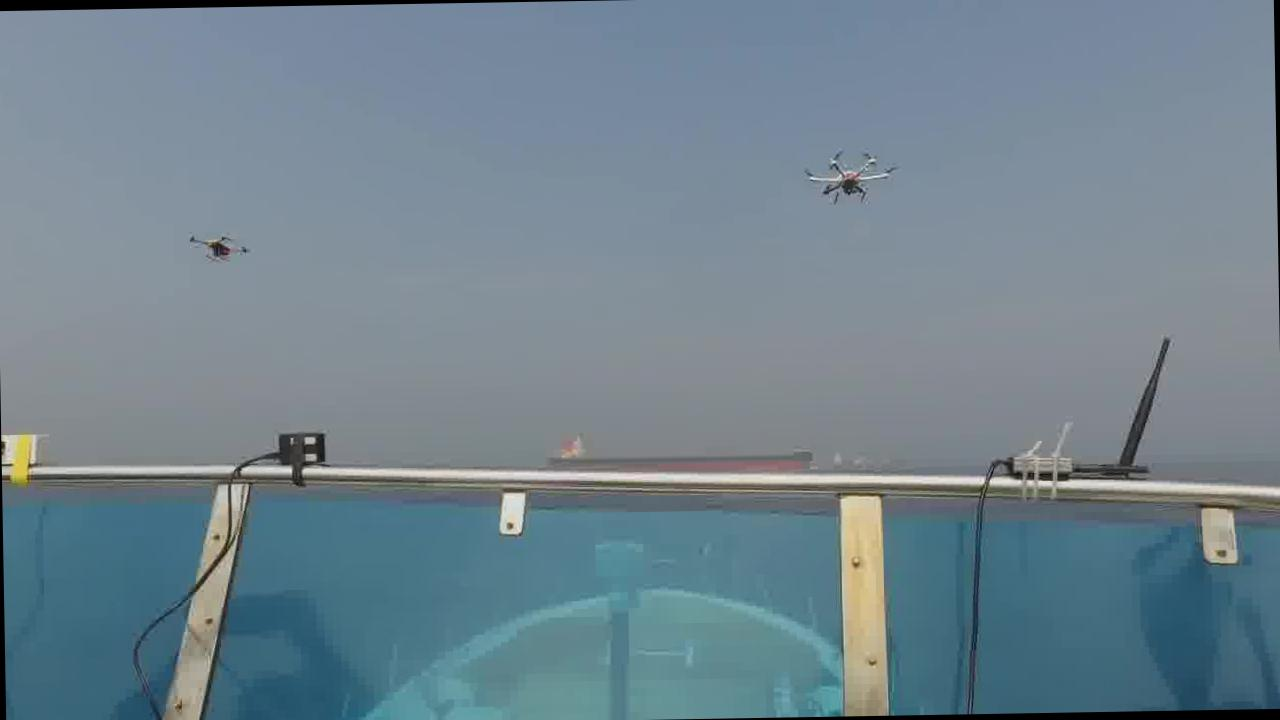drone: (802, 144, 896, 206), (184, 226, 252, 263)
